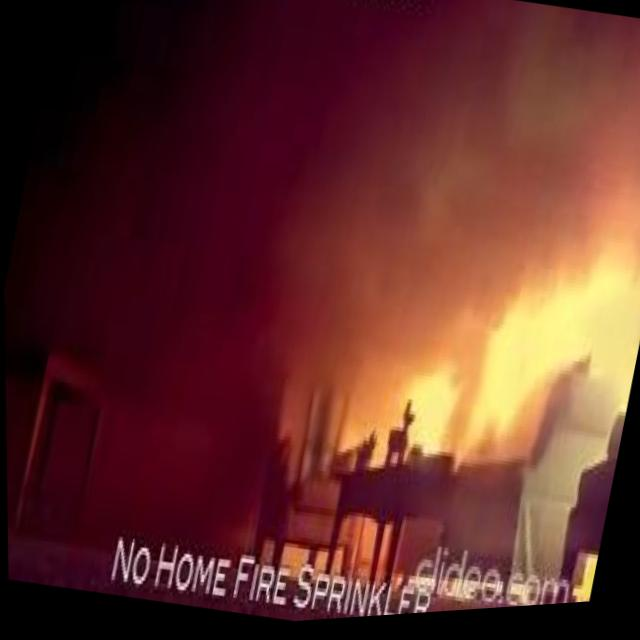fire: (478, 243, 640, 400), (459, 265, 570, 458), (393, 362, 469, 466)
